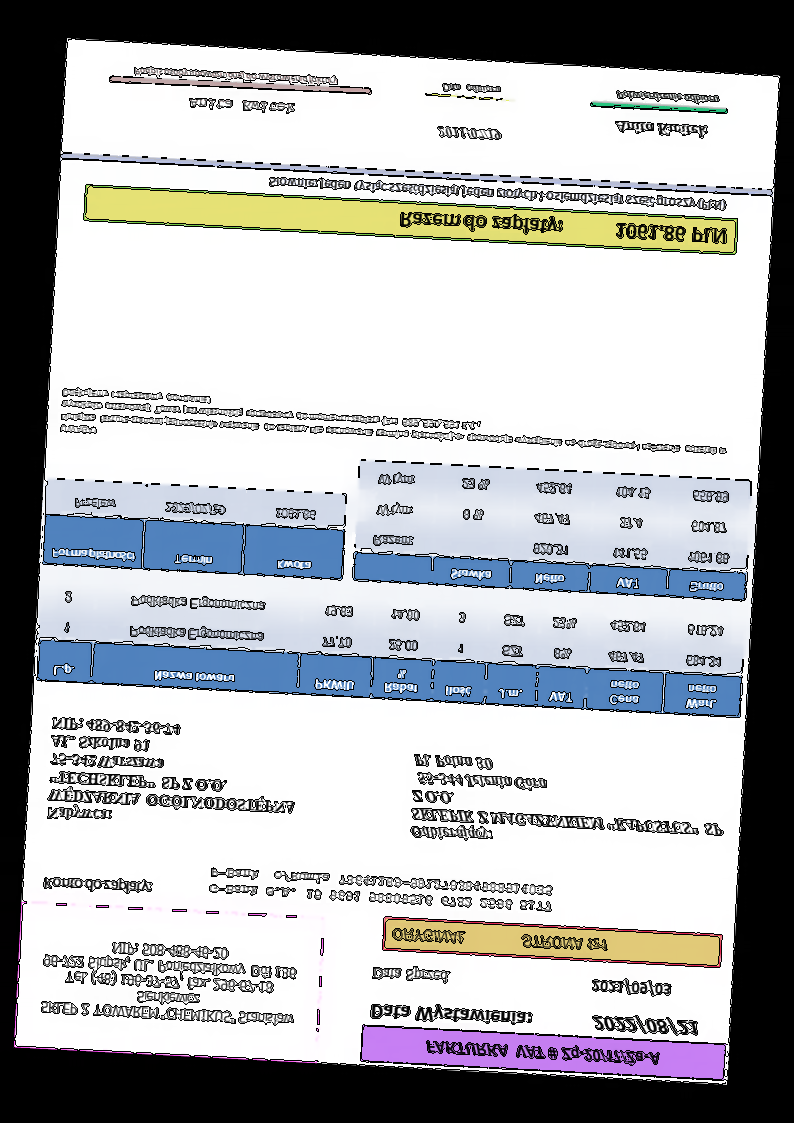Table: (35, 573, 747, 721), (349, 458, 753, 602), (41, 476, 350, 583)
TextBox: (57, 385, 732, 472), (406, 748, 728, 856), (43, 711, 305, 835), (33, 933, 303, 1032), (265, 173, 728, 216), (203, 865, 557, 915), (396, 209, 730, 250), (420, 1035, 666, 1073), (390, 924, 610, 955), (367, 998, 536, 1031), (129, 64, 342, 89), (590, 1013, 701, 1041), (38, 872, 155, 898), (186, 96, 294, 117), (367, 963, 460, 987), (610, 119, 712, 140), (614, 88, 723, 106), (589, 976, 674, 997), (435, 124, 505, 143), (440, 81, 506, 97)
